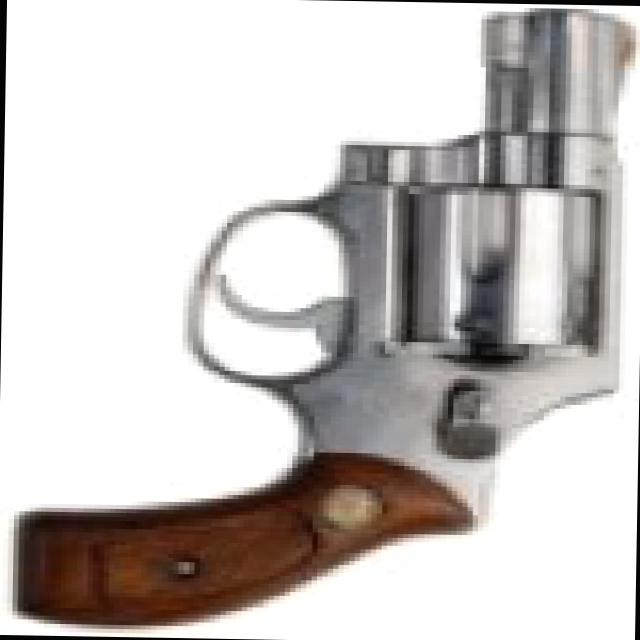handgun: (10, 0, 636, 634)
